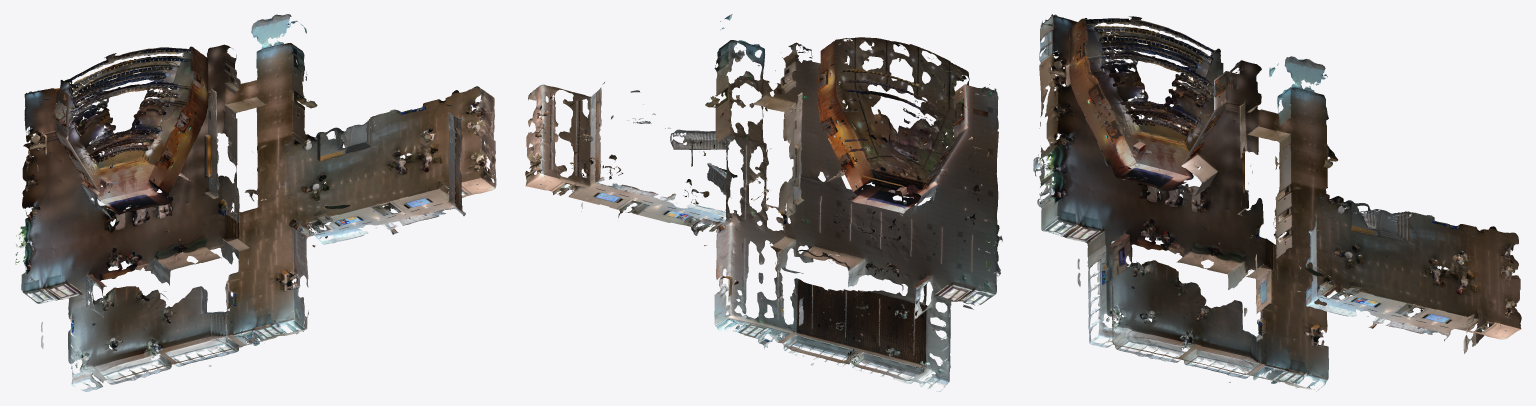
The model's file is scan.glb.
3 views of the same model, side by side, from view 1: azimuth 30°, elevation 25°; view 2: azimuth 150°, elevation 25°; view 3: azimuth 330°, elevation 25° (orthographic). The views are drawn at different scales.
Parts seen in each view (by area): view 1: mesh_0 (×37); view 2: mesh_0 (×46); view 3: mesh_0 (×37).
Part boxes in pixels (x1,y1,x2,y2): mesh_0 (×37): (15, 14, 495, 391); mesh_0 (×46): (525, 37, 1002, 391); mesh_0 (×37): (1033, 16, 1521, 391).
Bounding box in the file's own units: 56.8 × 38.61 × 8.1.
65 materials, 65 textured.
